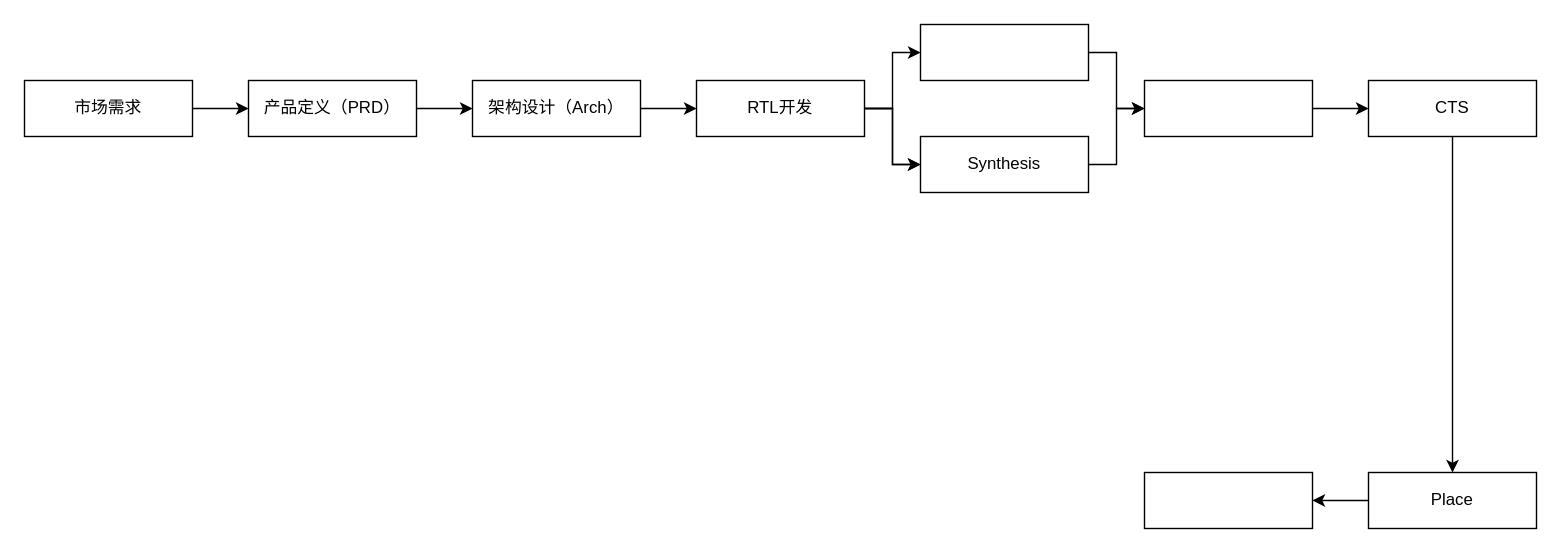
Some shapes in this 1561 by 553 pixel diagram are drawn without their labels. Here are the shapes that lost their labels. From the top down, the centre of each, then its label:
At point 1003,51: "Verification".
At point 1227,107: "Floorplan".
At point 1227,499: "Route".
